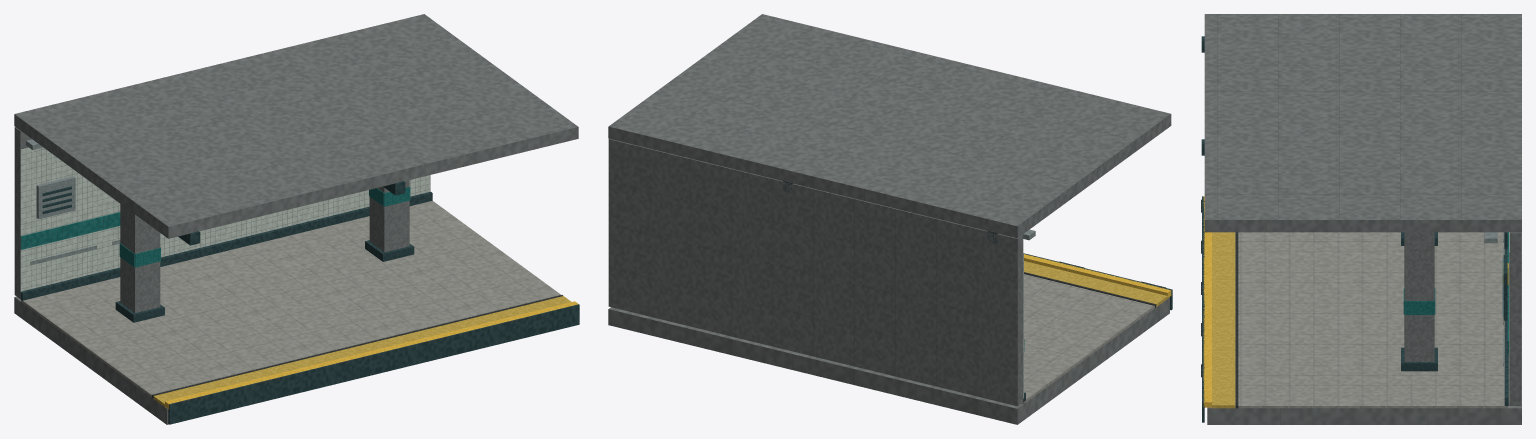
File: PZ_MetroStation_Platform_10m_Straight.glb
3 views of the same model, side by side, from view 1: azimuth 30°, elevation 25°; view 2: azimuth 150°, elevation 25°; view 3: azimuth 270°, elevation 25° (orthographic). The views are drawn at different scales.
Visible parts, largest first — view 1: PZ_STRAIGHT_10M__StructuralShell__ceiling_slab, PZ_STRAIGHT_10M__FloorFinish__terrazzo_finish_10m, PZ_STRAIGHT_10M__WallFinish__rear_wall_tile, PZ_STRAIGHT_10M__SafetyEdge__edge_skirt, PZ_STRAIGHT_10M__SafetyEdge__tactile_strip_10m, PZ_STRAIGHT_10M__WallEquipment__low_service_skirting, PZ_STRAIGHT_10M__Pillars__pillar_A_core, PZ_STRAIGHT_10M__StructuralShell__slab_10m, PZ_STRAIGHT_10M__Pillars__pillar_B_core, PZ_STRAIGHT_10M__SafetyEdge__edge_nosing, PZ_STRAIGHT_10M__WallFinish__identity_stripe, PZ_STRAIGHT_10M__StructuralShell__rear_wall (+2 smaller); view 2: PZ_STRAIGHT_10M__StructuralShell__rear_wall, PZ_STRAIGHT_10M__StructuralShell__ceiling_slab, PZ_STRAIGHT_10M__StructuralShell__slab_10m, PZ_STRAIGHT_10M__FloorFinish__terrazzo_finish_10m, PZ_STRAIGHT_10M__SafetyEdge__tactile_strip_10m, PZ_STRAIGHT_10M__SafetyEdge__edge_nosing; view 3: PZ_STRAIGHT_10M__StructuralShell__ceiling_slab, PZ_STRAIGHT_10M__FloorFinish__terrazzo_finish_10m, PZ_STRAIGHT_10M__StructuralShell__slab_10m, PZ_STRAIGHT_10M__SafetyEdge__tactile_strip_10m, PZ_STRAIGHT_10M__Pillars__pillar_B_core, PZ_STRAIGHT_10M__StructuralShell__rear_wall, PZ_STRAIGHT_10M__SafetyEdge__edge_nosing, PZ_STRAIGHT_10M__SafetyEdge__black_warning_line, PZ_STRAIGHT_10M__SafetyEdge__edge_skirt, PZ_STRAIGHT_10M__Pillars__pillar_B_foot, PZ_STRAIGHT_10M__PillarCladding__pillar_B_teal_band_right, PZ_STRAIGHT_10M__WallEquipment__low_service_skirting (+1 smaller).
Part boxes in pixels (box(x1,y1,x2,y2)): PZ_STRAIGHT_10M__StructuralShell__ceiling_slab: box(14, 14, 578, 238); PZ_STRAIGHT_10M__FloorFinish__terrazzo_finish_10m: box(21, 200, 560, 397); PZ_STRAIGHT_10M__WallFinish__rear_wall_tile: box(20, 147, 430, 295); PZ_STRAIGHT_10M__SafetyEdge__edge_skirt: box(168, 304, 579, 424); PZ_STRAIGHT_10M__SafetyEdge__tactile_strip_10m: box(153, 296, 571, 407); PZ_STRAIGHT_10M__WallEquipment__low_service_skirting: box(20, 191, 432, 300); PZ_STRAIGHT_10M__Pillars__pillar_A_core: box(120, 204, 160, 312); PZ_STRAIGHT_10M__StructuralShell__slab_10m: box(14, 296, 168, 424); PZ_STRAIGHT_10M__Pillars__pillar_B_core: box(369, 180, 409, 252); PZ_STRAIGHT_10M__SafetyEdge__edge_nosing: box(165, 301, 578, 409); PZ_STRAIGHT_10M__WallFinish__identity_stripe: box(20, 212, 120, 249); PZ_STRAIGHT_10M__StructuralShell__rear_wall: box(14, 127, 31, 298); PZ_STRAIGHT_10M__StructuralShell__rear_wall: box(608, 139, 1023, 406); PZ_STRAIGHT_10M__StructuralShell__ceiling_slab: box(608, 14, 1171, 238); PZ_STRAIGHT_10M__StructuralShell__slab_10m: box(608, 297, 1169, 424); PZ_STRAIGHT_10M__FloorFinish__terrazzo_finish_10m: box(1022, 274, 1154, 403); PZ_STRAIGHT_10M__SafetyEdge__tactile_strip_10m: box(1024, 261, 1167, 306); PZ_STRAIGHT_10M__SafetyEdge__edge_nosing: box(1024, 254, 1171, 297); PZ_STRAIGHT_10M__StructuralShell__ceiling_slab: box(1204, 14, 1521, 232); PZ_STRAIGHT_10M__FloorFinish__terrazzo_finish_10m: box(1238, 232, 1508, 408); PZ_STRAIGHT_10M__StructuralShell__slab_10m: box(1207, 232, 1521, 424); PZ_STRAIGHT_10M__SafetyEdge__tactile_strip_10m: box(1212, 232, 1235, 408); PZ_STRAIGHT_10M__Pillars__pillar_B_core: box(1404, 232, 1434, 361); PZ_STRAIGHT_10M__StructuralShell__rear_wall: box(1509, 232, 1521, 405); PZ_STRAIGHT_10M__SafetyEdge__edge_nosing: box(1203, 196, 1211, 407); PZ_STRAIGHT_10M__SafetyEdge__black_warning_line: box(1235, 232, 1238, 408); PZ_STRAIGHT_10M__SafetyEdge__edge_skirt: box(1202, 196, 1204, 422); PZ_STRAIGHT_10M__Pillars__pillar_B_foot: box(1401, 347, 1437, 371); PZ_STRAIGHT_10M__PillarCladding__pillar_B_teal_band_right: box(1404, 301, 1434, 314); PZ_STRAIGHT_10M__WallEquipment__low_service_skirting: box(1504, 249, 1508, 405).
Bounding box in the file's own units: 10 × 4.64 × 6.58.
Materials: 12 (12 with a texture image).
